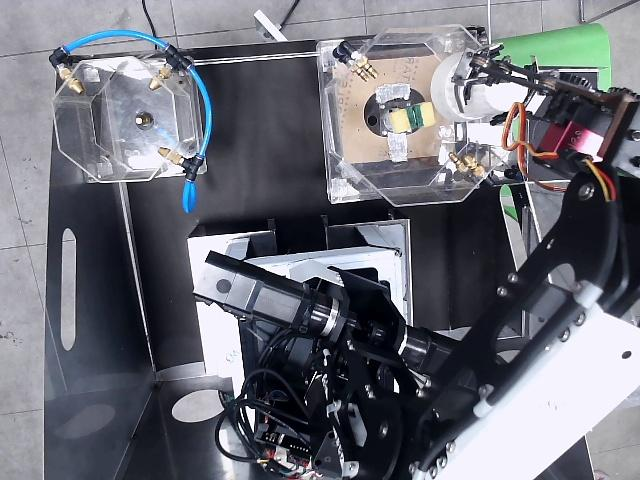cup: (431, 51, 526, 121)
